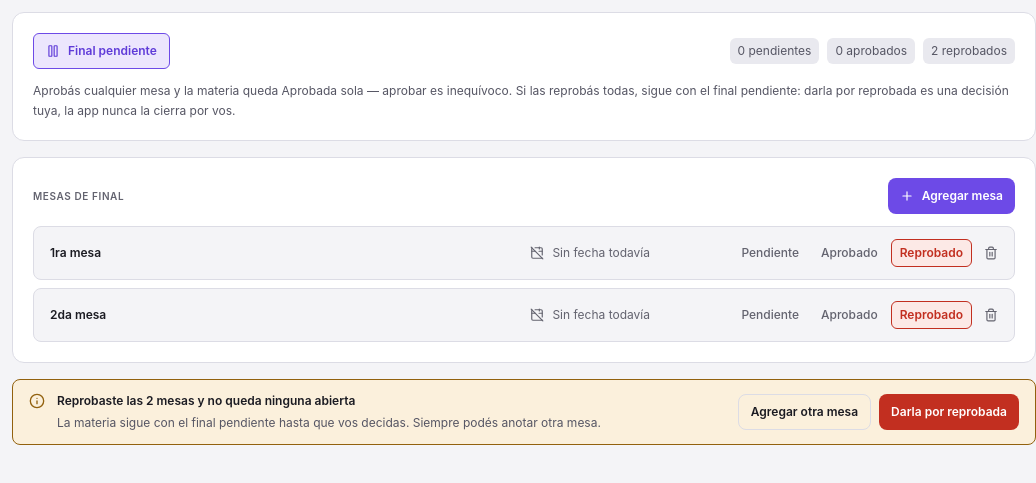
Test: FinalesContainer › surfaces the mapped copy when setting a result fails
The width and height of the screenshot is (1036, 483).
Click the button "Aprobado" in the row of "1ra mesa".
click(849, 253)  # box [812,239,887,267]
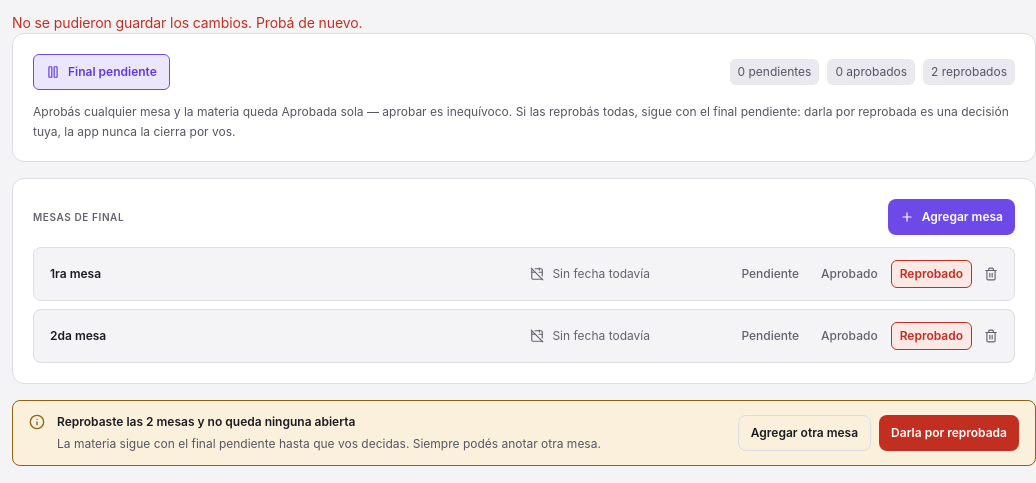
expect the text "No se pudieron guardar los cambios. Probá de nuevo." is shown: met, box [12,14,362,31]
